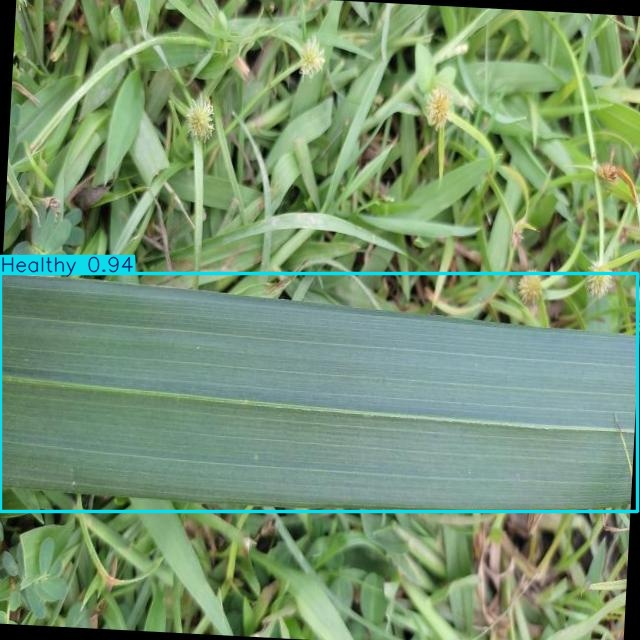Healthy: (0, 274, 637, 512)
